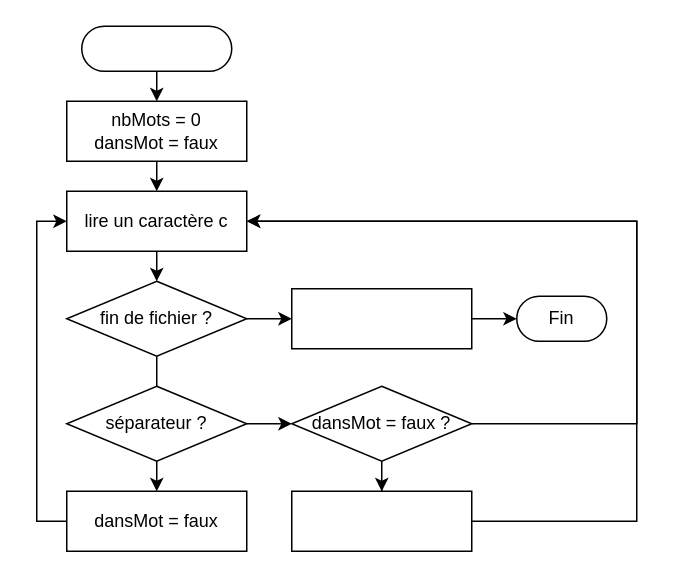
Image size: 675x578. Some labels were removed from this diagram. Here are the shapes that lost their labels. From the top down, the centre of each, then its label:
At pixel 156 48: "Début".
At pixel 381 318: "afficher nbMots".
At pixel 381 520: "nbMots++ dansMot = vrai".
